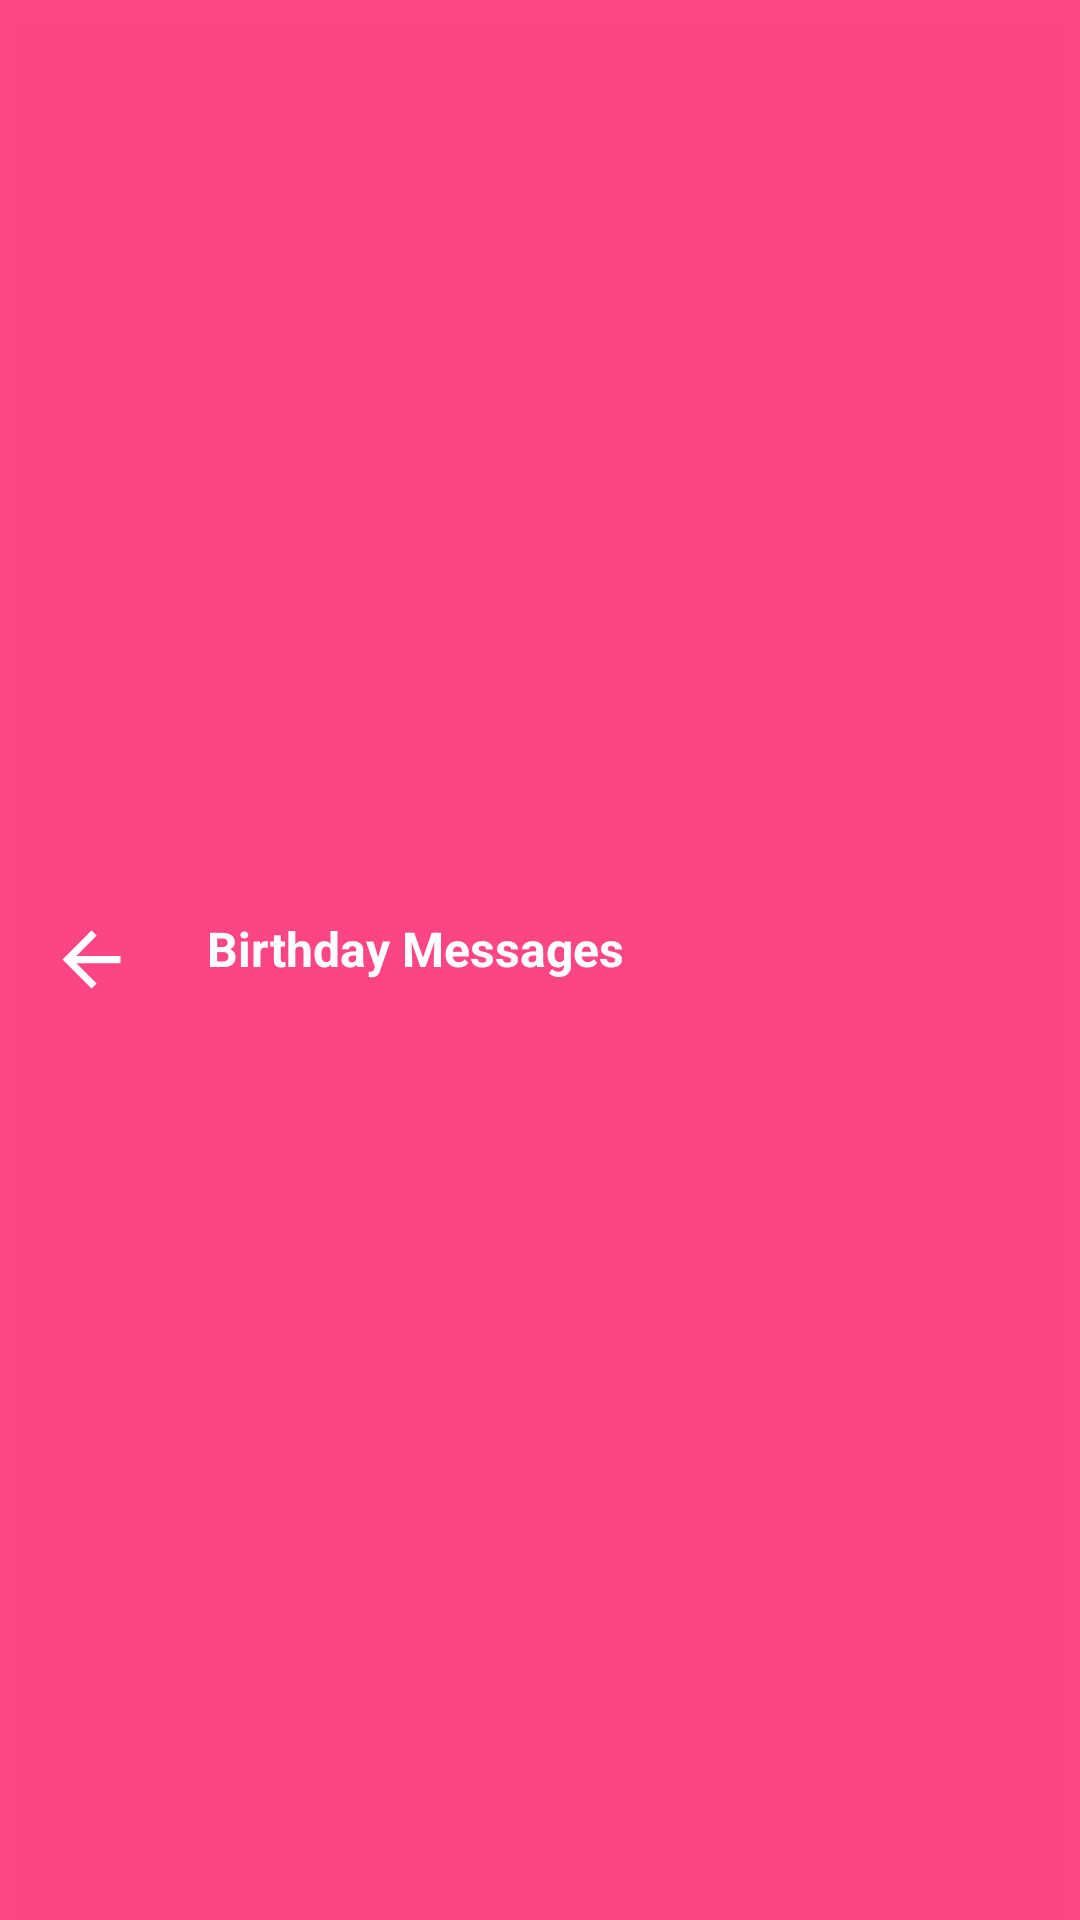

Named icons in this screenshot (1080x1920) and their centers, point (x, y):
arrow: point (91, 959)
